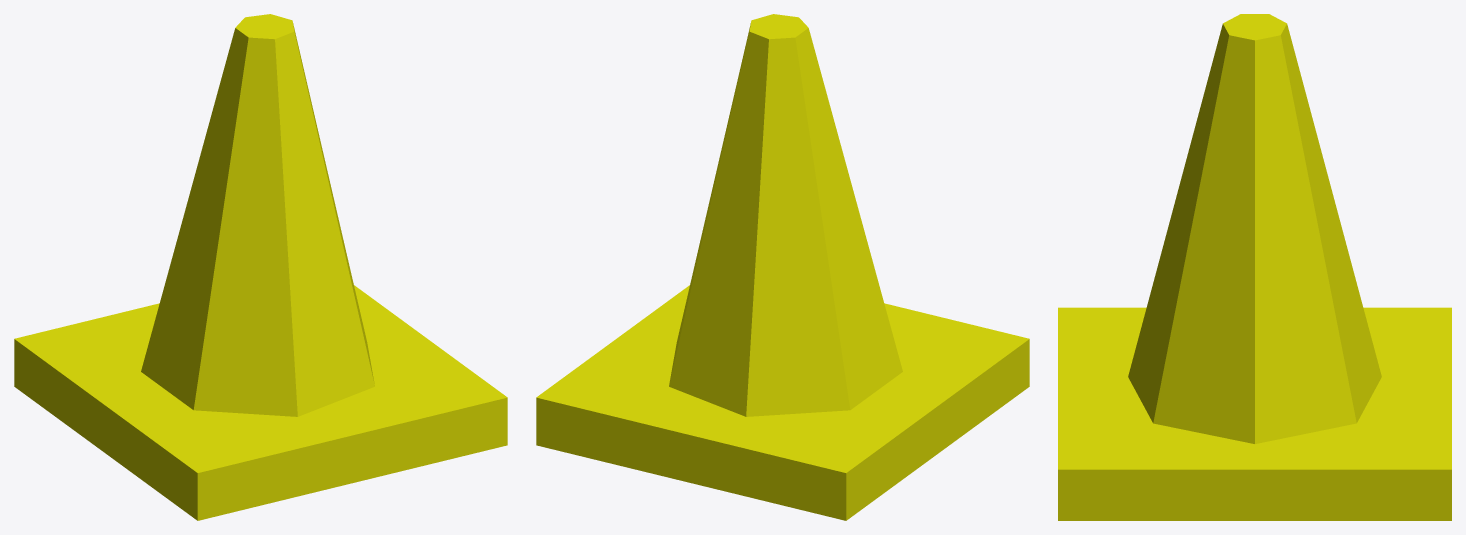
The picture shows the model from 3 angles, left to right: view 1: azimuth 30°, elevation 25°; view 2: azimuth 150°, elevation 25°; view 3: azimuth 270°, elevation 25°; orthographic projection. The views are drawn at different scales.
Visible parts, largest first — view 1: barier; view 2: barier; view 3: barier.
Boxes of the visible parts, x1,y1,x2,y2 form: barier: (14,14,507,520); barier: (536,14,1029,520); barier: (1058,14,1451,520).
Bounding box in the file's own units: 1.74 × 2.07 × 1.78.
Materials: 1 (1 with a texture image).
